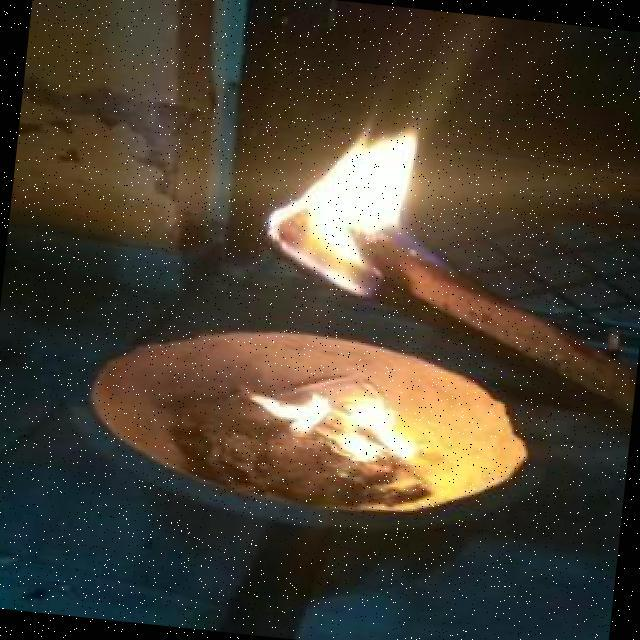Fire: (234, 74, 474, 302), (236, 381, 428, 468)
